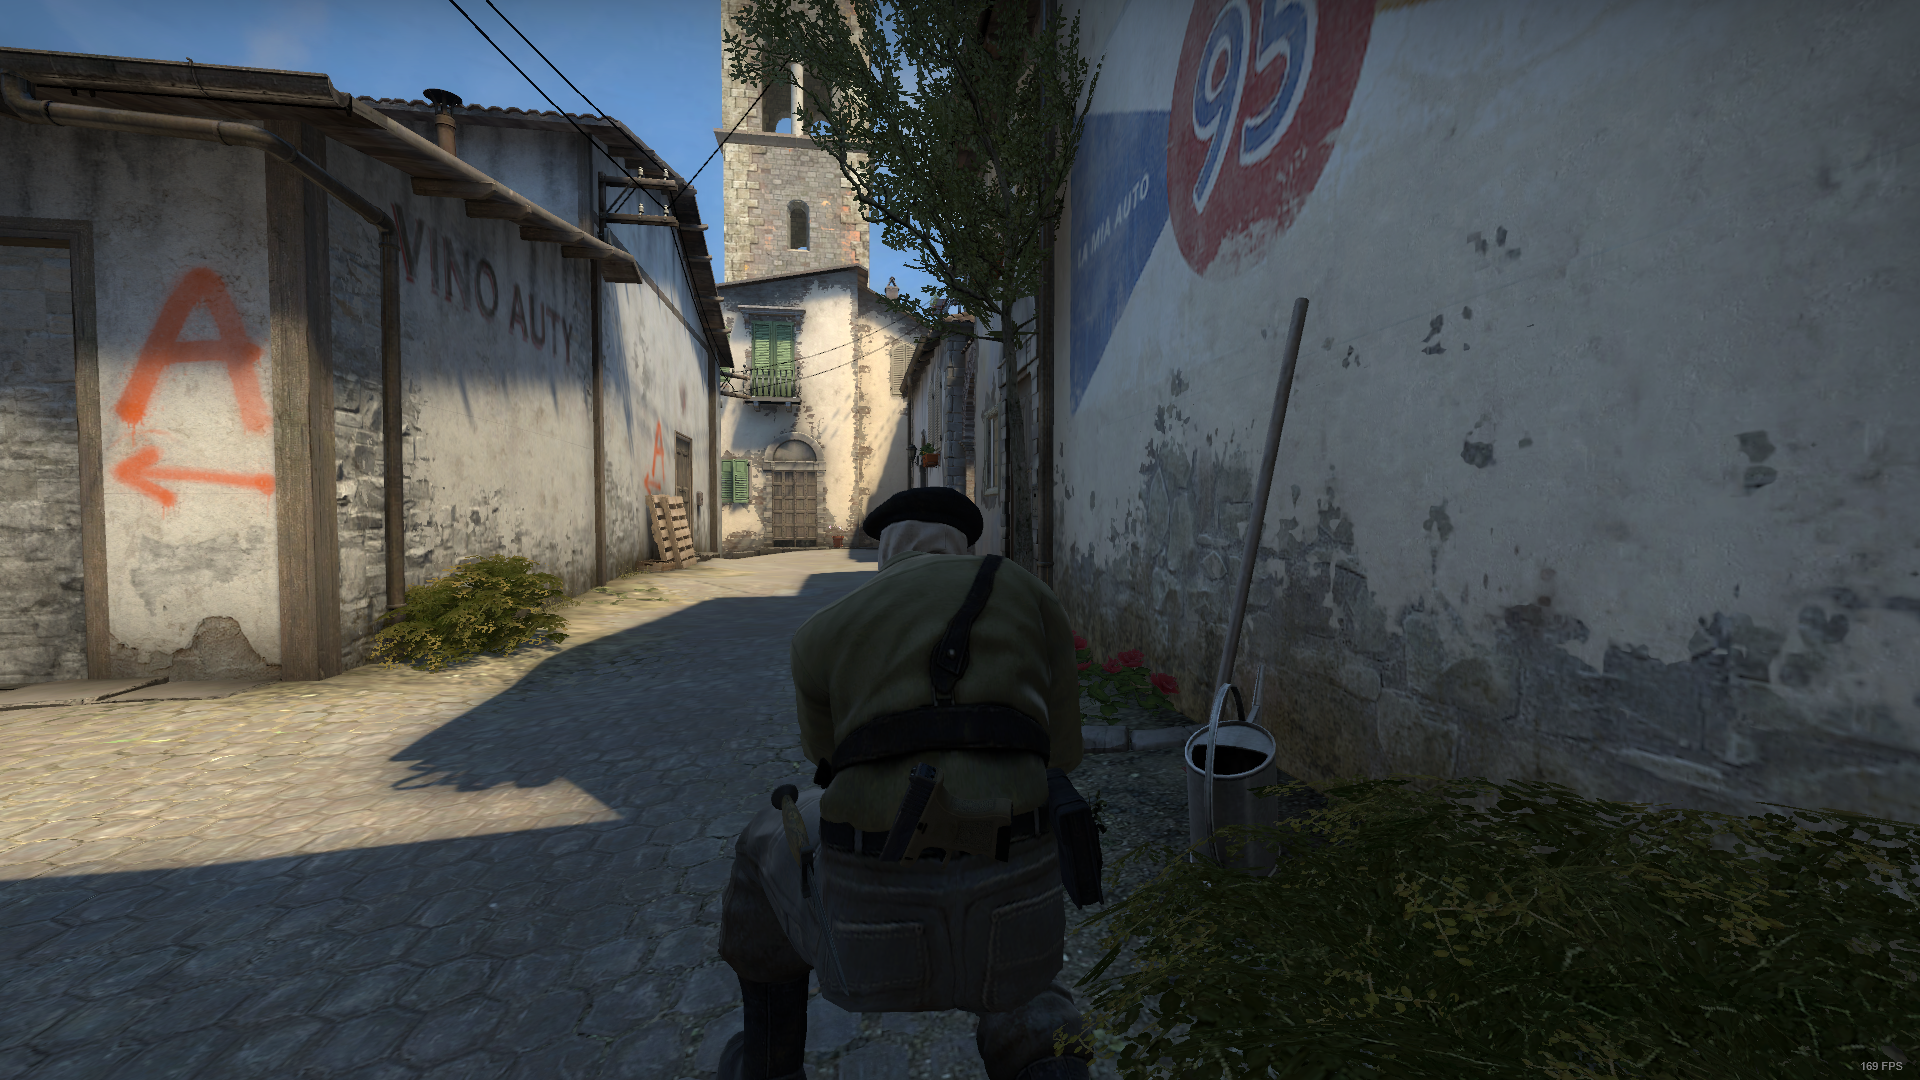t: (720, 487, 1100, 1080)
